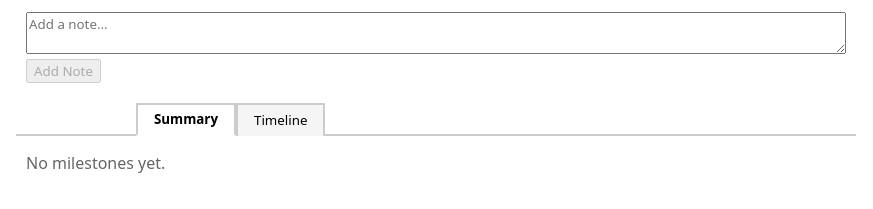
Test: JobHistorySection › shows a field error under the note form on field validation failure
In the text box with placeholder "Add a note…": [436, 33] box [26,12,846,54], type "Hello"
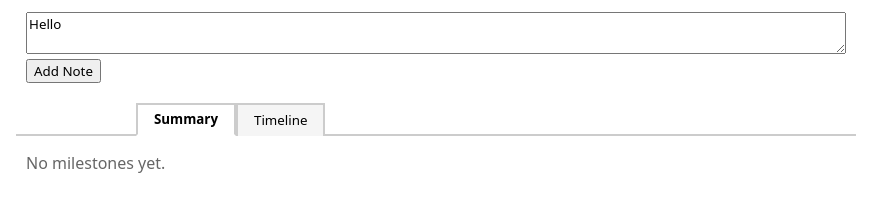
Click the button "Add Note": [63, 71] box [26,59,101,83]
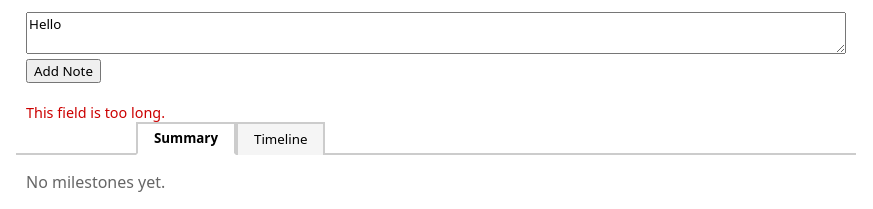
Result: the text "This field is too long." is shown at [26,103,165,122]
